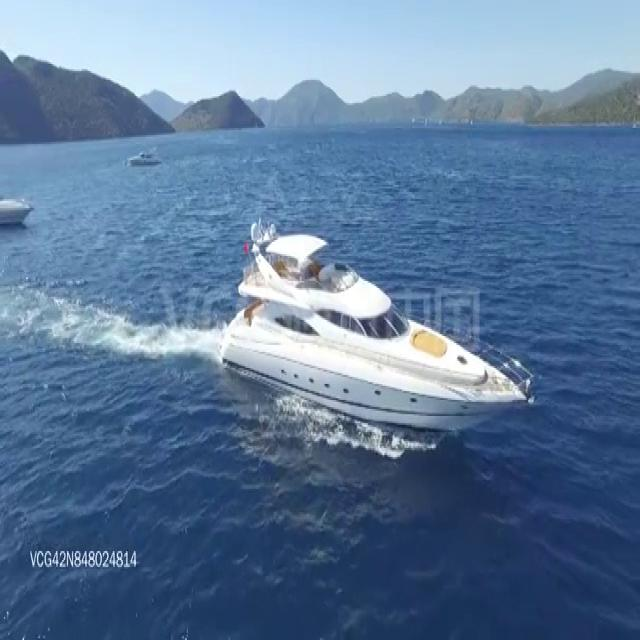houseboat: (223, 216, 531, 431), (0, 189, 36, 230), (122, 140, 162, 166)
